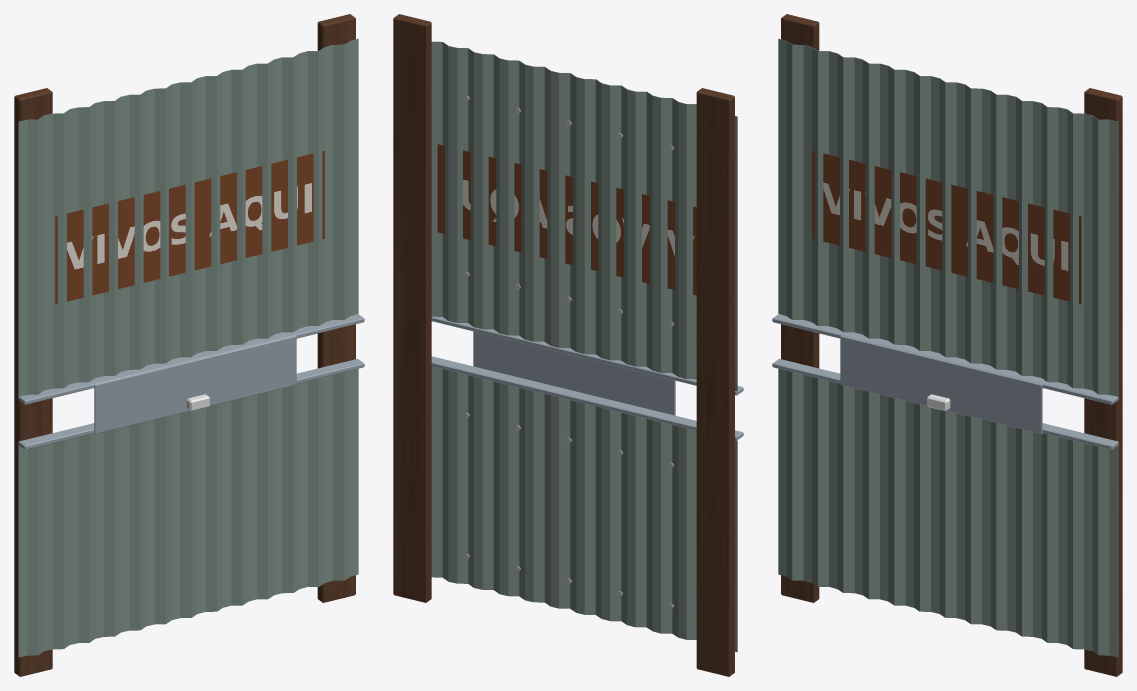
Rendered from seteira.glb.
3 views of the same model, side by side, from view 1: azimuth 30°, elevation 25°; view 2: azimuth 150°, elevation 25°; view 3: azimuth 330°, elevation 25° (orthographic).
Parts seen in each view (by area): view 1: seteira_chapa_pintada, seteira_picha_seteira, seteira_tampa_fenda_aco_pintado, seteira_madeira_escura, seteira_aco_pintado; view 2: seteira_chapa_pintada, seteira_madeira_escura, seteira_picha_seteira, seteira_tampa_fenda_aco_pintado, seteira_aco_pintado, seteira_aco; view 3: seteira_chapa_pintada, seteira_picha_seteira, seteira_tampa_fenda_aco_pintado, seteira_madeira_escura, seteira_aco_pintado.
Boxes of the visible parts, x1,y1,x2,y2 form: seteira_chapa_pintada: [18, 38, 358, 657]; seteira_picha_seteira: [55, 150, 324, 304]; seteira_tampa_fenda_aco_pintado: [94, 335, 296, 433]; seteira_madeira_escura: [14, 14, 355, 676]; seteira_aco_pintado: [18, 314, 364, 449]; seteira_chapa_pintada: [431, 41, 737, 652]; seteira_madeira_escura: [393, 14, 734, 676]; seteira_picha_seteira: [437, 144, 696, 295]; seteira_tampa_fenda_aco_pintado: [473, 331, 675, 415]; seteira_aco_pintado: [431, 316, 743, 440]; seteira_aco: [464, 95, 673, 609]; seteira_chapa_pintada: [778, 38, 1118, 657]; seteira_picha_seteira: [812, 150, 1081, 304]; seteira_tampa_fenda_aco_pintado: [840, 335, 1042, 433]; seteira_madeira_escura: [781, 14, 1122, 676]; seteira_aco_pintado: [772, 314, 1118, 449].
Bounding box in the file's own units: 1.01 × 1.64 × 0.095.
6 materials, 2 textured.
